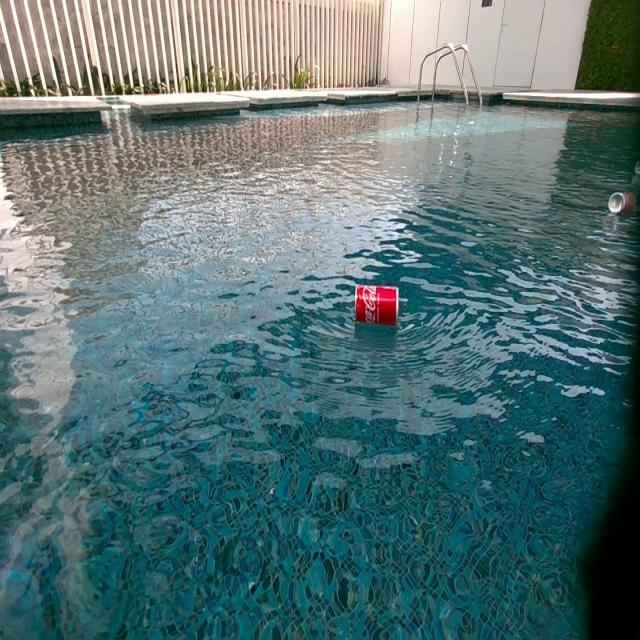Cans: (354, 284, 398, 326), (610, 193, 638, 216)
